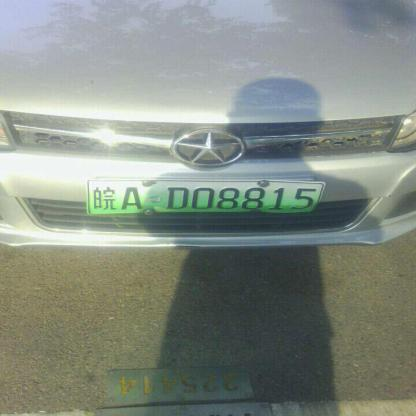lp: (87, 180, 322, 212)
